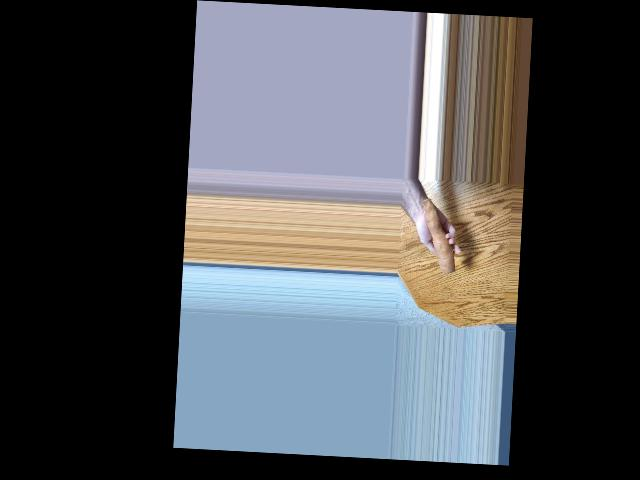sweet_potato: (417, 195, 460, 274)
